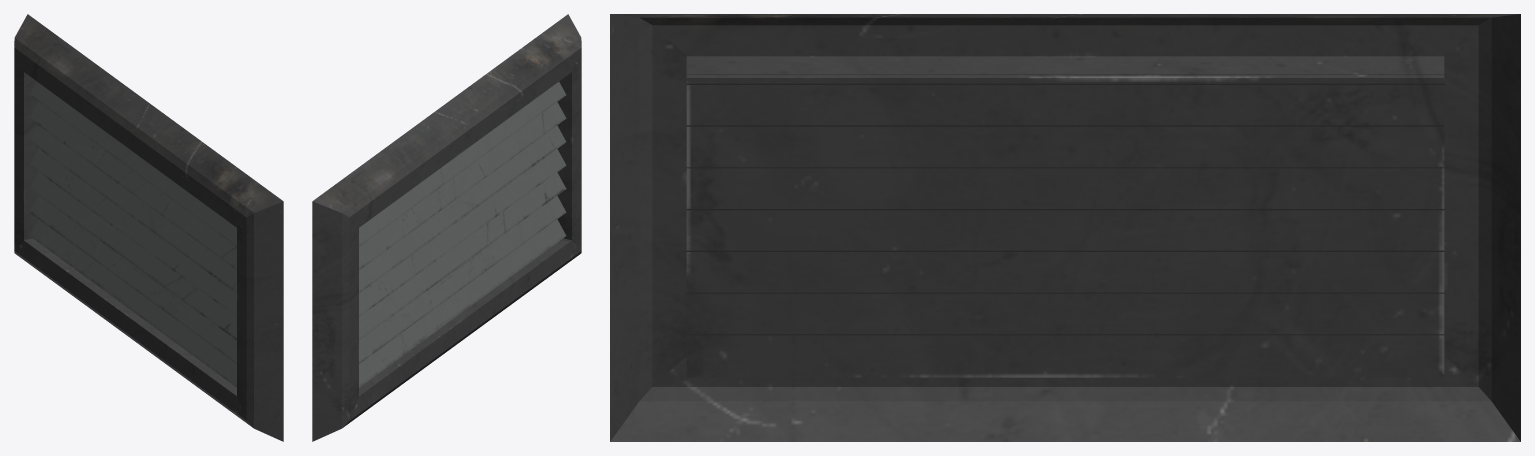
File: Prop_Wall_Ventilation.fbx
The picture shows the model from 3 angles, left to right: view 1: azimuth 30°, elevation 25°; view 2: azimuth 150°, elevation 25°; view 3: azimuth 270°, elevation 25°; orthographic projection. The views are drawn at different scales.
Visible parts, largest first — view 1: Prop_Wall_Ventilation; view 2: Prop_Wall_Ventilation; view 3: Prop_Wall_Ventilation.
Boxes of the visible parts, x1,y1,x2,y2 form: Prop_Wall_Ventilation: [14, 14, 283, 441]; Prop_Wall_Ventilation: [312, 14, 581, 441]; Prop_Wall_Ventilation: [610, 14, 1520, 441].
Size of the model in its own units: 1.84 by 16.46 by 31.75.
